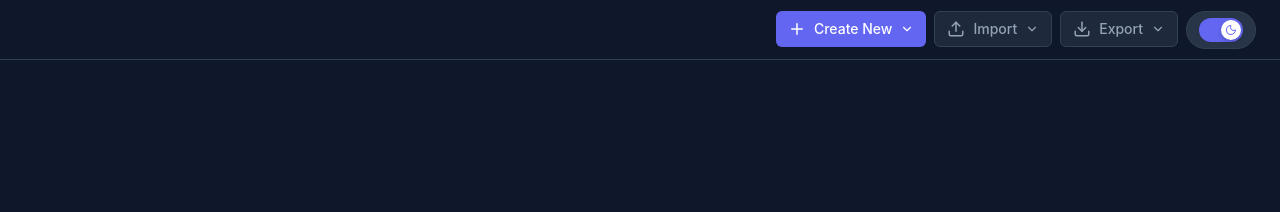
Test case: HeaderBar › Export dropdown › should show baseline selection in PDF export
Click the button "Export". click: {"x": 1119, "y": 28}
box: [1060, 10, 1178, 46]
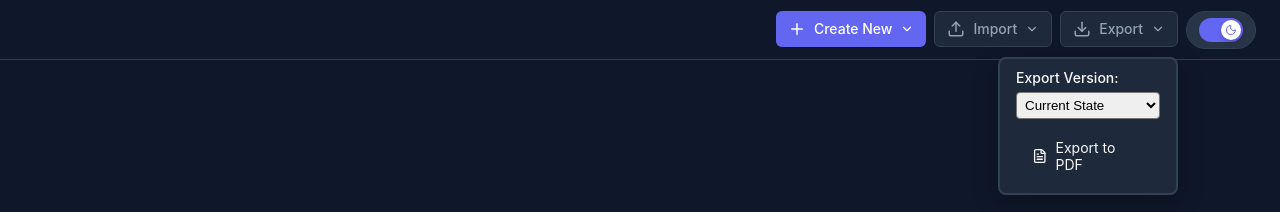
Now the text "Export Version:" is shown, box [1016, 68, 1118, 86]
